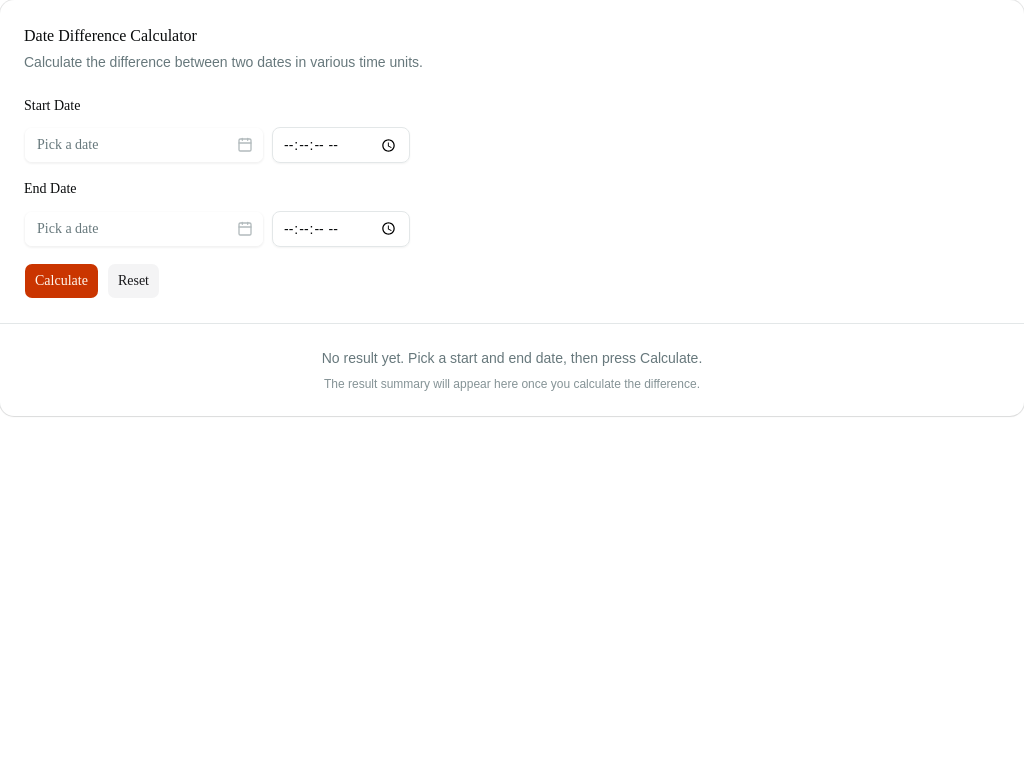
Test case: DateDifference › onSubmit success › shows duration summary when start-after-end
Click the button with id "calendar-startDate" at (144, 145), box [24,127,264,163]
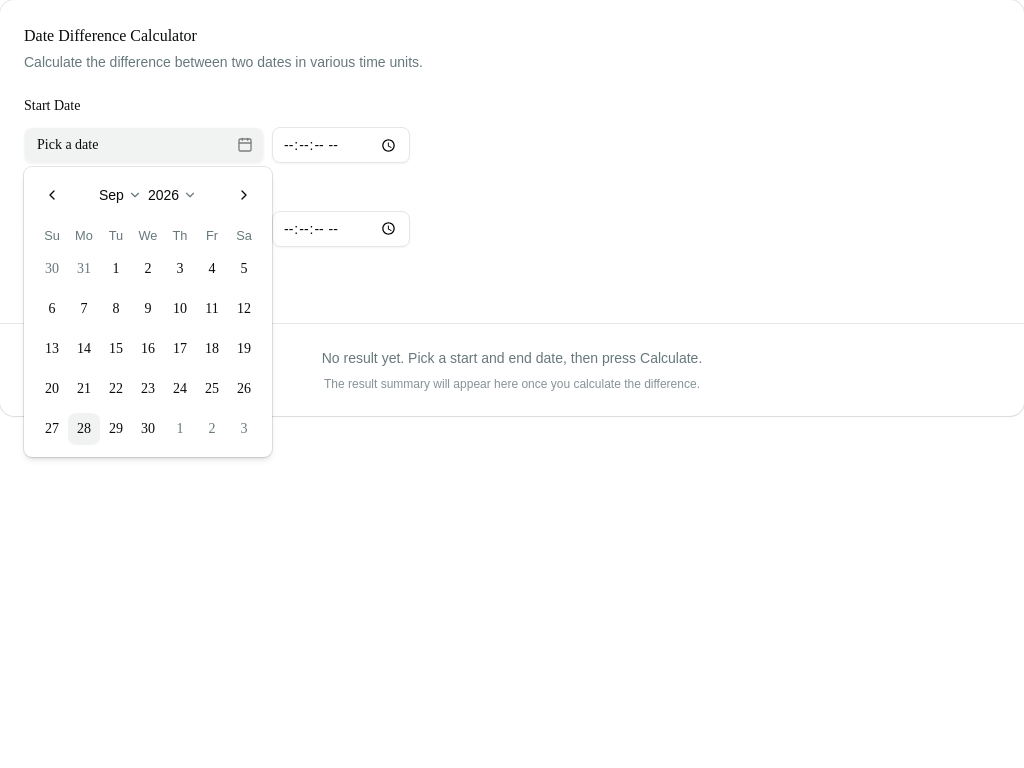
Click the button "31" at (84, 269), box [68,253,100,285]
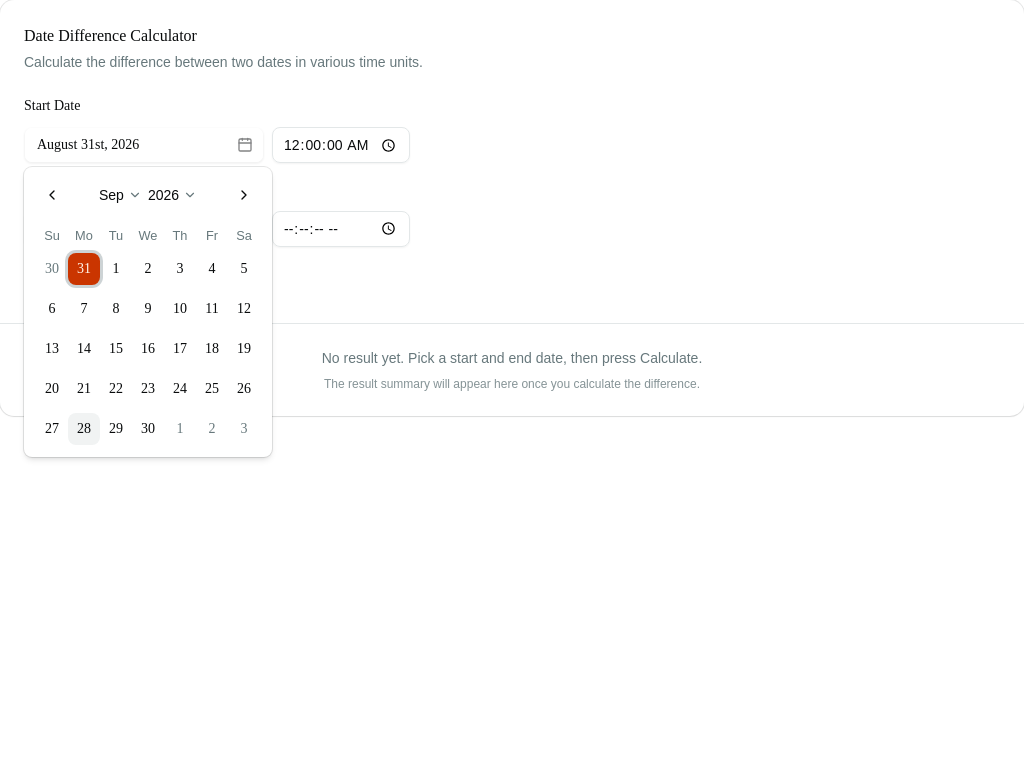
Click the button with id "calendar-endDate" at (144, 228), box [24,210,264,246]
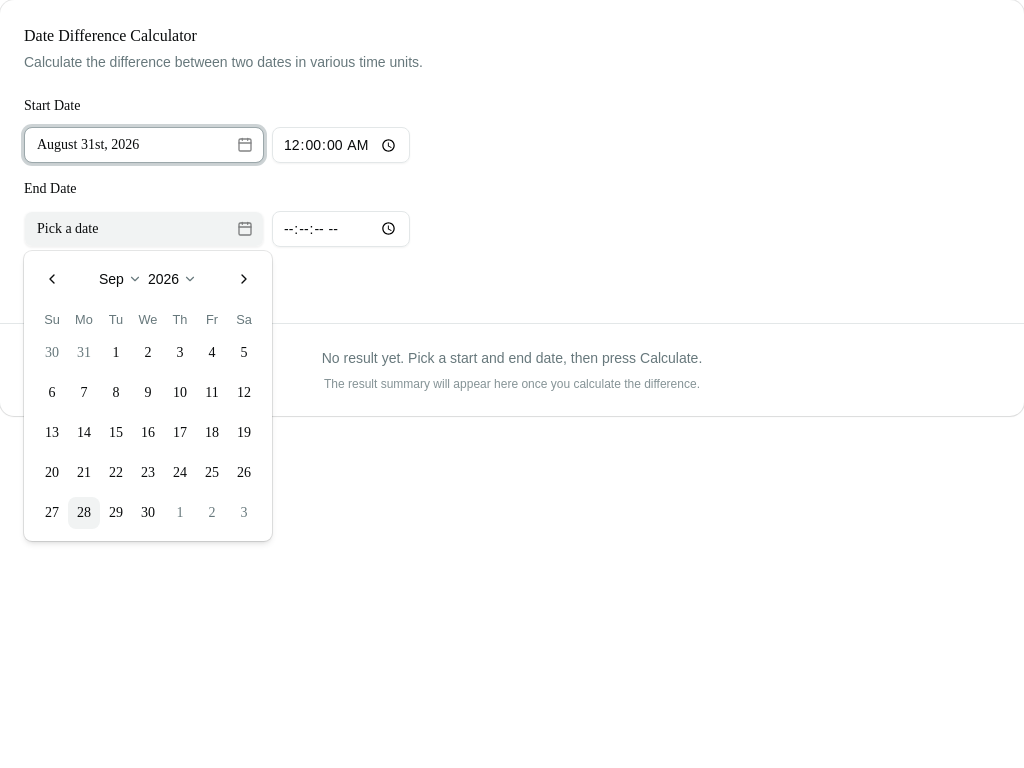
Click the 1st button "30" at (52, 353), box [36,337,68,369]
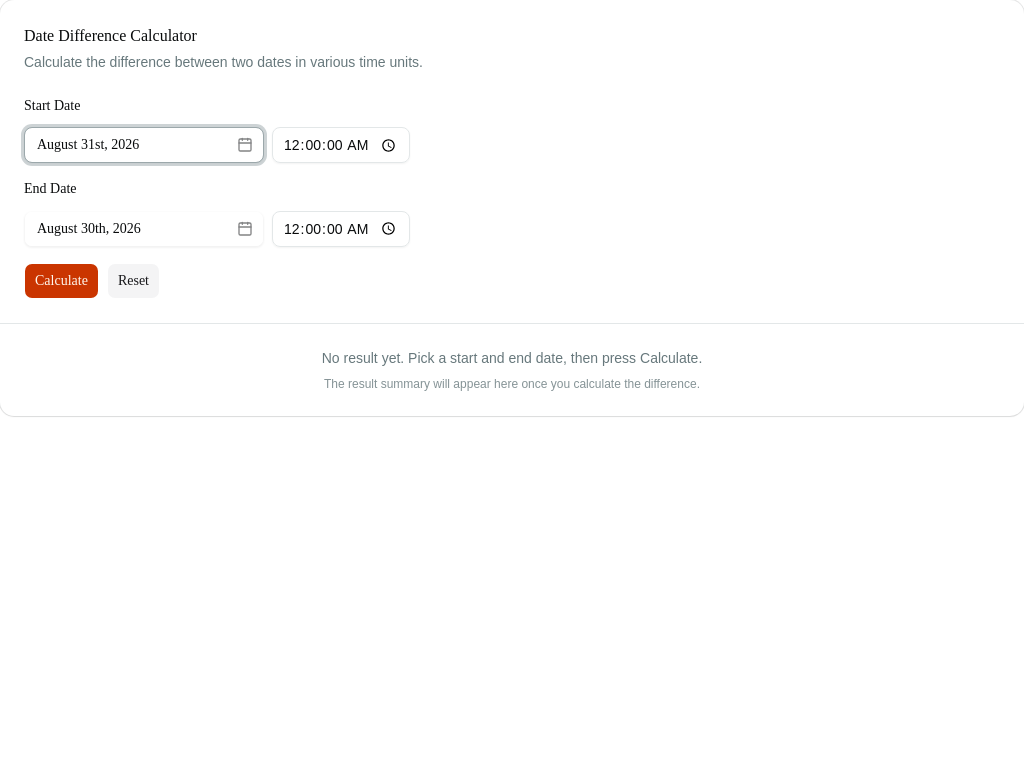
Click the button with aria-label "calculate difference" at (61, 280), box [24,262,99,298]
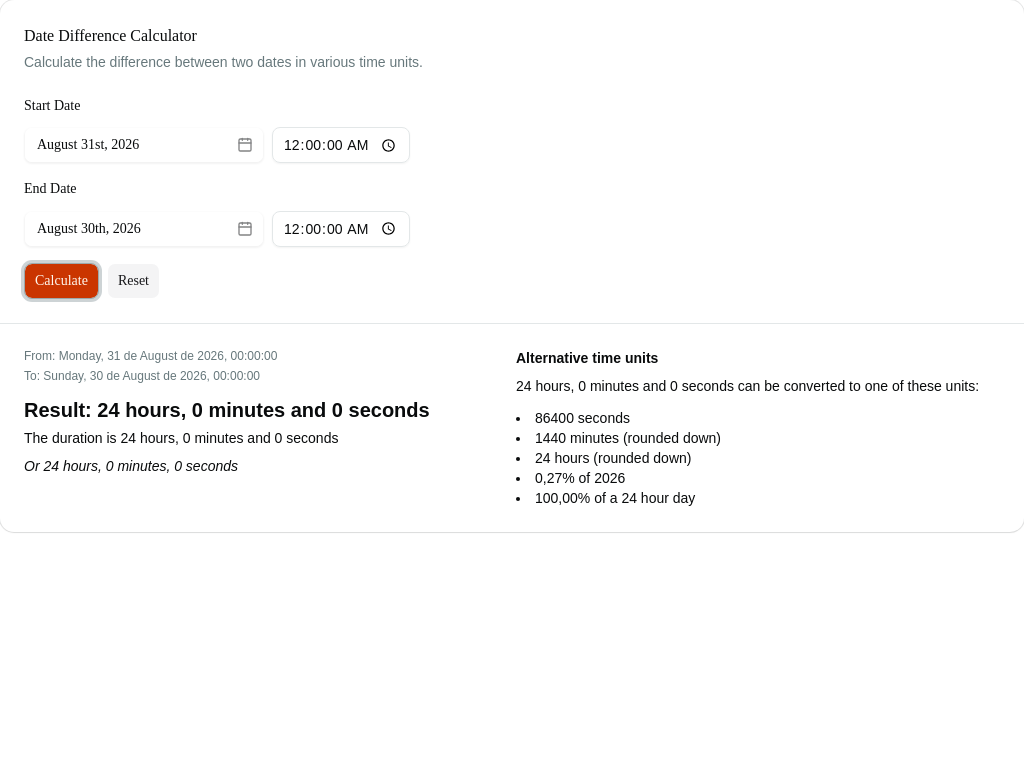
Expected: the text "Result: 24 hours, 0 minutes and 0 seconds" is shown, [24,398,430,420]
Expected: the text "Alternative time units" is shown, [516,350,658,366]
Expected: the text "can be converted to one of these units" is shown, [734,378,979,394]
